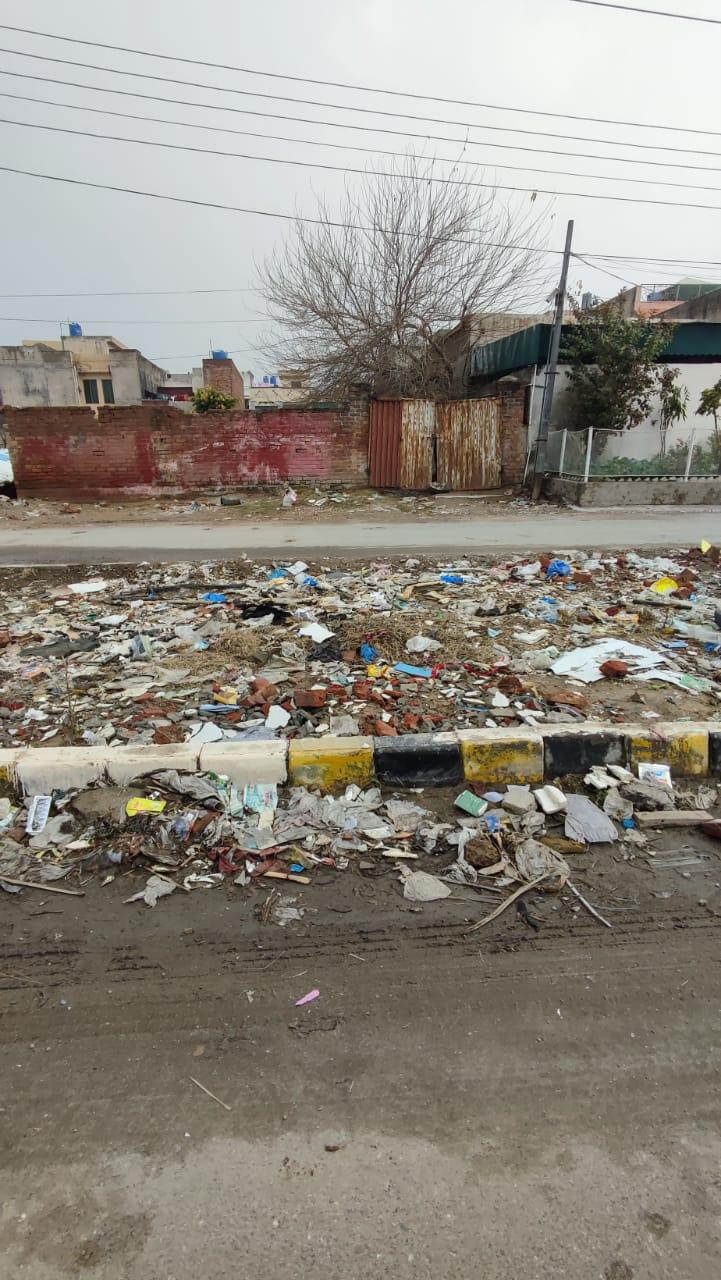garbage: (0, 536, 721, 903)
